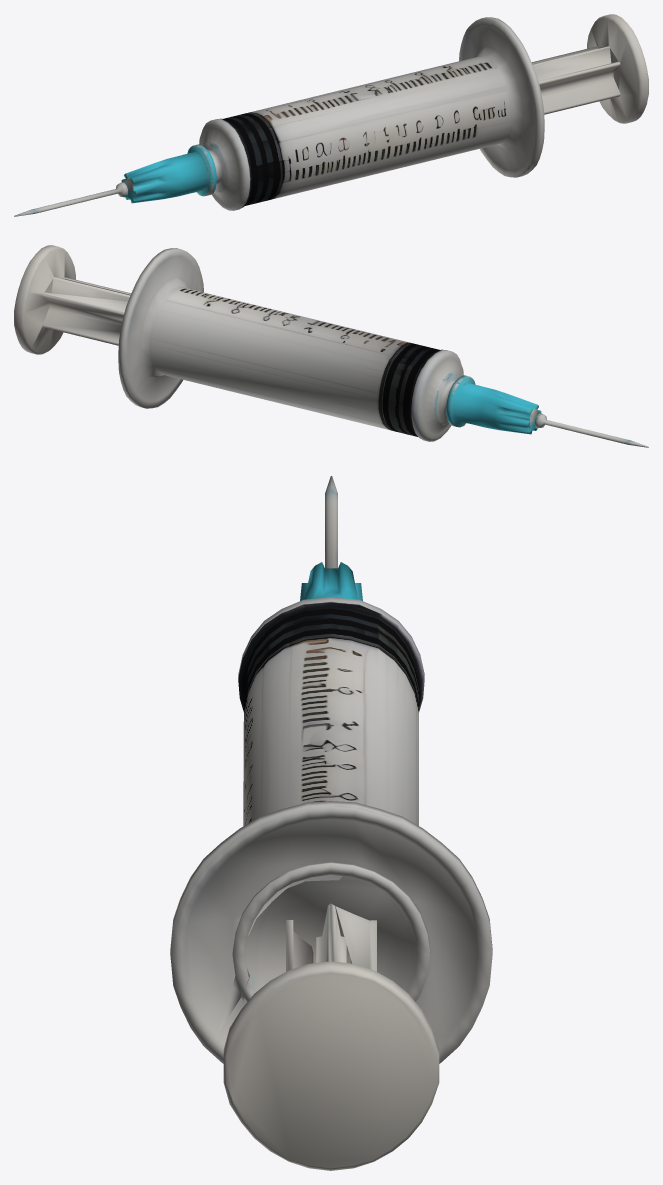
File: Syringe.glb
3 views of the same model, one above another, from view 1: azimuth 30°, elevation 25°; view 2: azimuth 150°, elevation 25°; view 3: azimuth 270°, elevation 25° (orthographic). The views are drawn at different scales.
Parts seen in each view (by area): view 1: material; view 2: material; view 3: material.
Boxes of the visible parts, box(x1,y1,x2,y2) form: material: box(14, 14, 648, 216); material: box(14, 245, 648, 447); material: box(170, 476, 492, 1170).
Bounding box in the file's own units: 1.9 × 0.4433 × 0.4355.
1 material, 1 textured.
